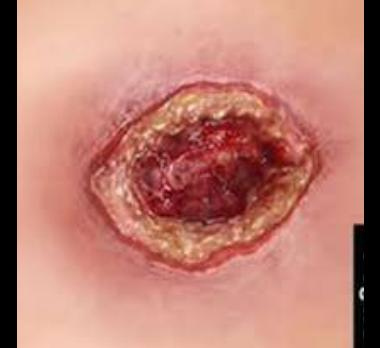Stage3: (56, 30, 337, 283)
